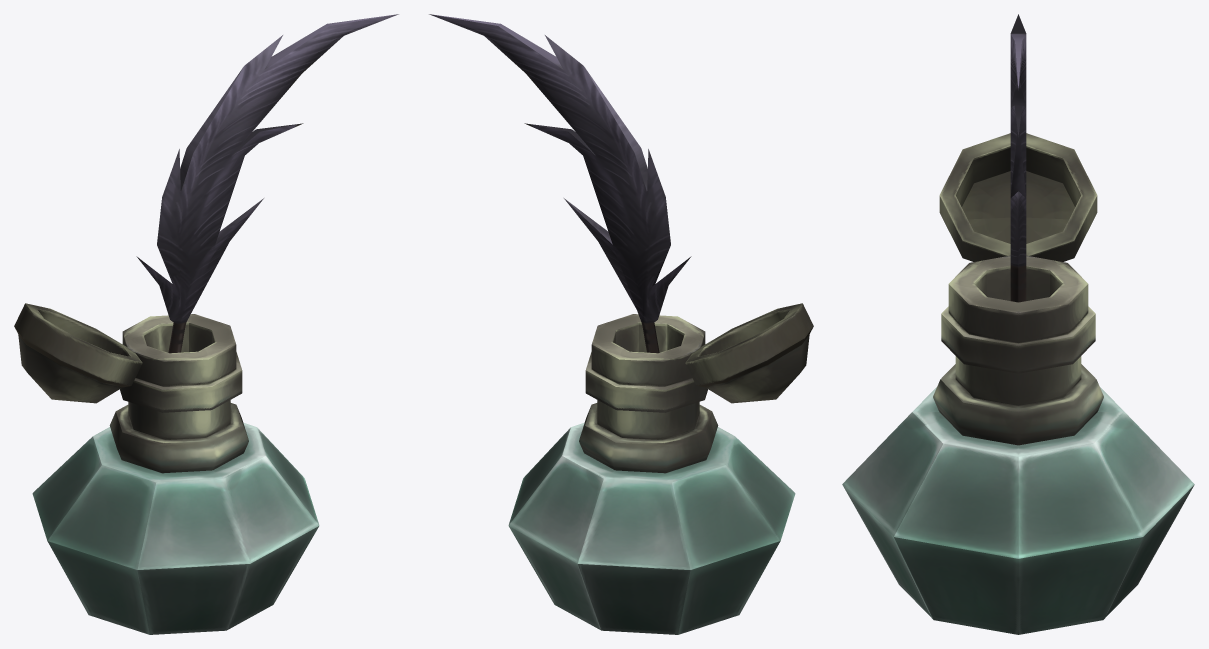
The model's file is 18_ink.FBX.
3 renders of one model, left to right at view 1: azimuth 30°, elevation 25°; view 2: azimuth 150°, elevation 25°; view 3: azimuth 270°, elevation 25°, orthographic. The views are drawn at different scales.
Parts seen in each view (by area): view 1: 18_ink; view 2: 18_ink; view 3: 18_ink.
Part boxes in pixels (box(x1,y1,x2,y2)): 18_ink: box(14, 14, 398, 634); 18_ink: box(429, 14, 813, 634); 18_ink: box(842, 14, 1194, 634).
Size of the model in its own units: 46.89 by 63.37 by 32.02.
